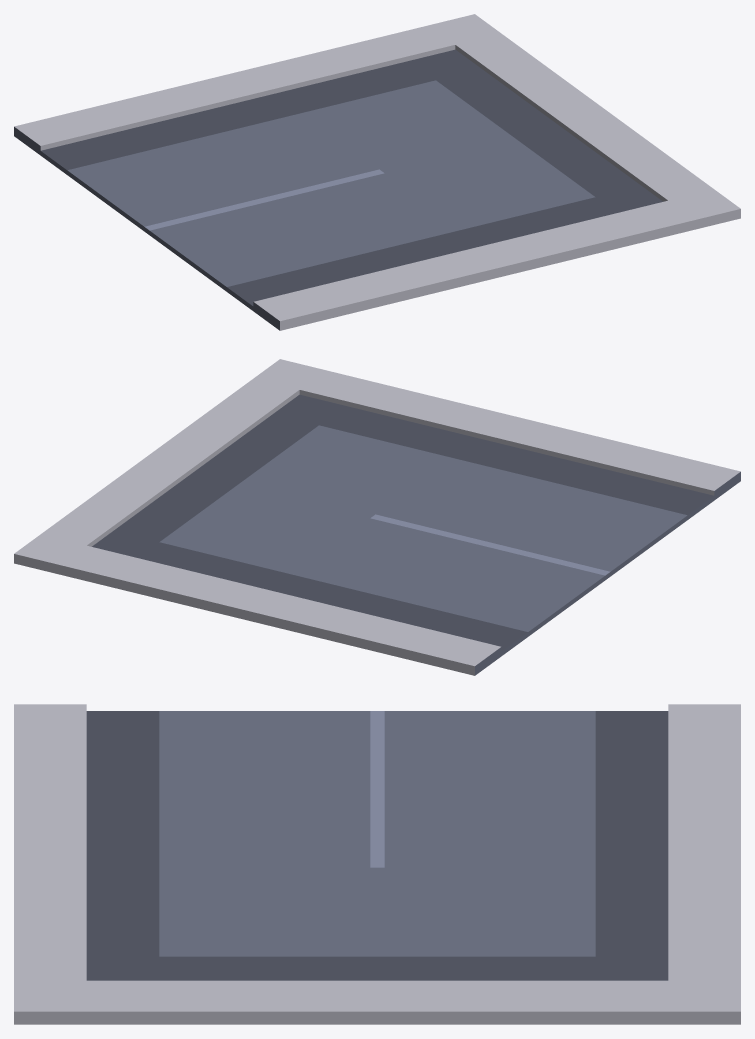
File: Road End.glb
3 renders of one model, top to bottom at view 1: azimuth 30°, elevation 25°; view 2: azimuth 150°, elevation 25°; view 3: azimuth 270°, elevation 25°, orthographic. The views are drawn at different scales.
Visible parts, largest first — view 1: road_end; view 2: road_end; view 3: road_end.
Part boxes in pixels (x1,y1,x2,y2): road_end: [14, 14, 740, 330]; road_end: [14, 359, 740, 675]; road_end: [14, 704, 740, 1024].
Bounding box in the file's own units: 1 × 0.02 × 1.
